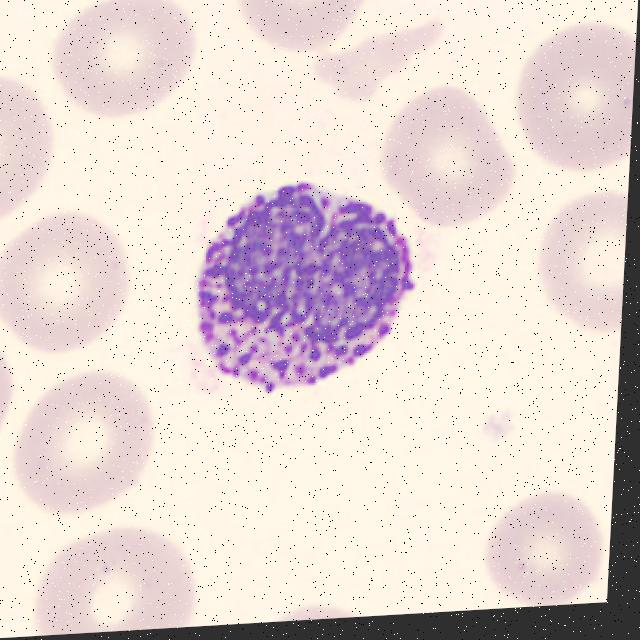basophil: (194, 185, 429, 411)
rbc: (6, 368, 167, 519), (378, 84, 518, 229), (29, 522, 200, 636), (0, 218, 137, 359), (467, 483, 613, 610), (516, 27, 636, 177), (521, 188, 628, 340), (52, 0, 198, 111), (310, 14, 454, 101), (0, 61, 62, 237), (225, 0, 393, 60), (0, 336, 26, 474)
